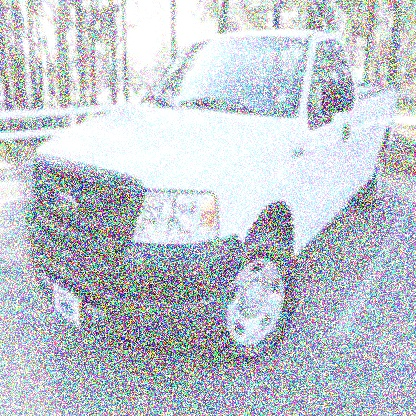Vehicle: (27, 32, 404, 366)
